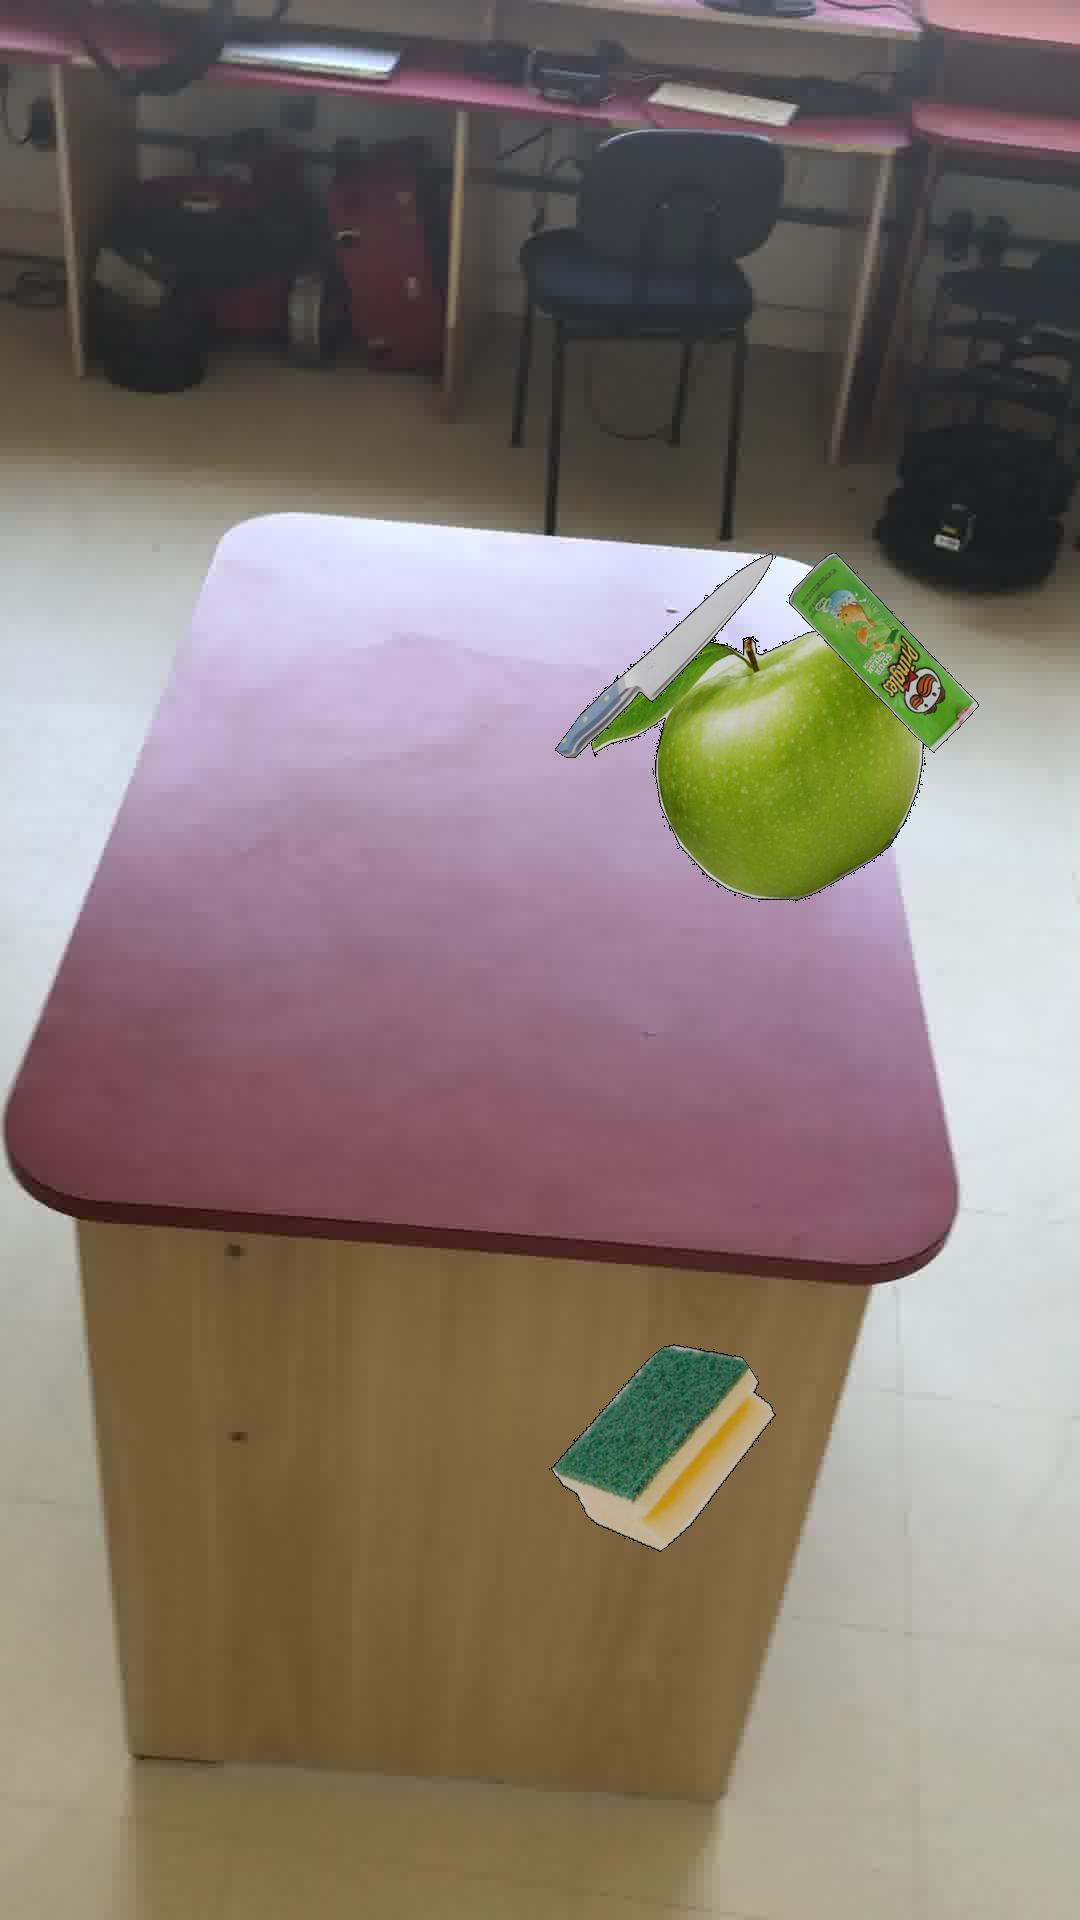green apple: (589, 629, 923, 899)
knife: (554, 551, 771, 757)
pringles: (787, 551, 977, 752)
sponge: (550, 1342, 774, 1551)
